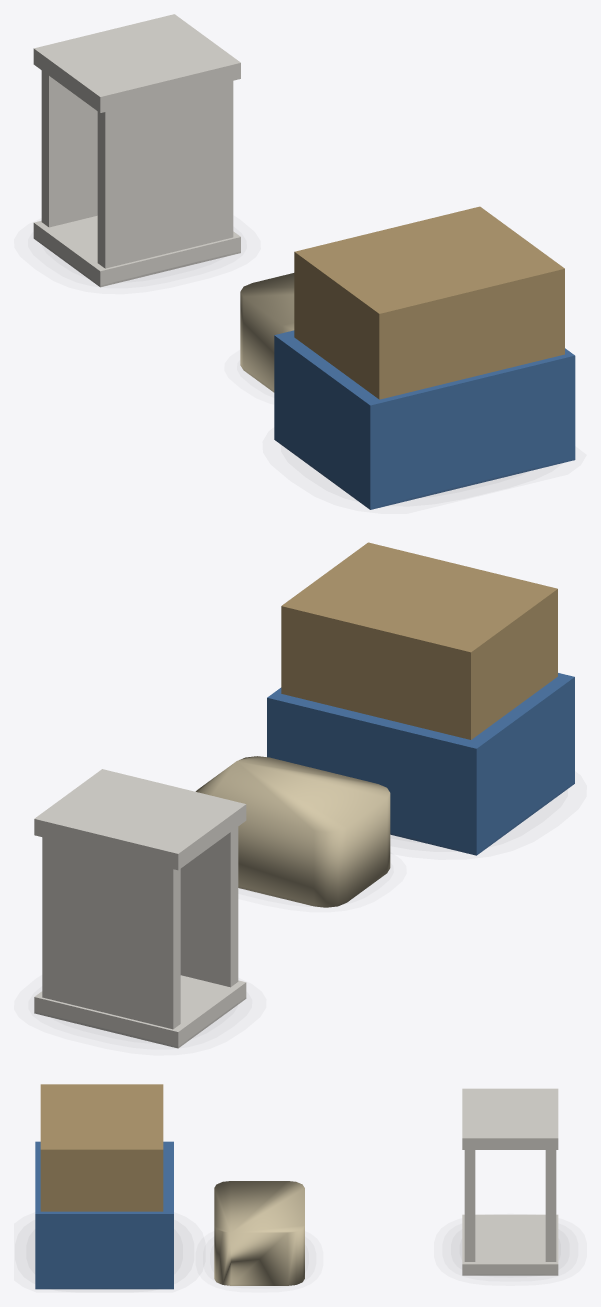
File: pantry_floor_stock.glb
3 views of the same model, one above another, from view 1: azimuth 30°, elevation 25°; view 2: azimuth 150°, elevation 25°; view 3: azimuth 270°, elevation 25° (orthographic). The views are drawn at different scales.
Parts seen in each view (by area): view 1: root; view 2: root; view 3: root.
Part boxes in pixels (x1,y1,x2,y2): root: (33, 14, 575, 509); root: (34, 542, 574, 1048); root: (35, 1084, 560, 1289).
Size of the model in its own units: 0.5944 by 0.4328 by 1.64.
